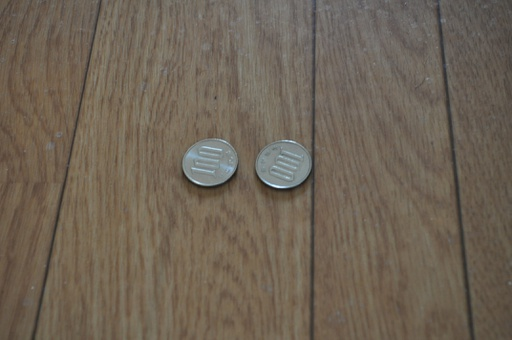100yen: (255, 141, 311, 190), (183, 139, 238, 188)
